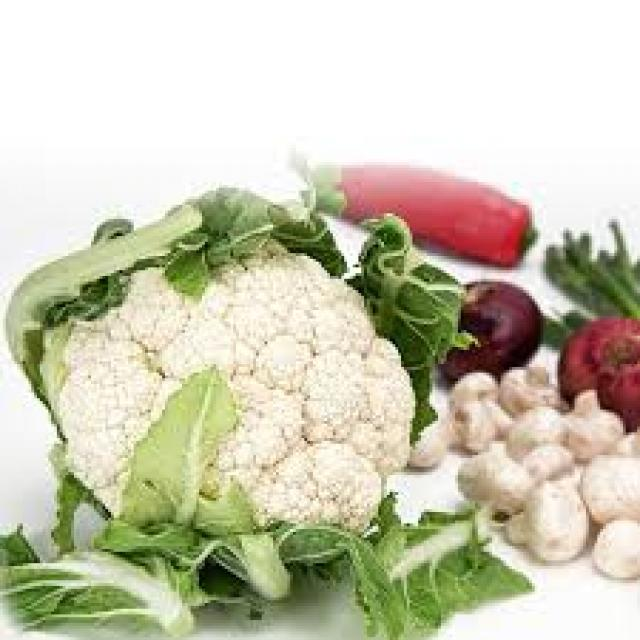organic waste: (0, 148, 523, 637), (299, 159, 526, 262), (535, 225, 637, 344), (435, 273, 538, 373), (555, 310, 637, 430), (501, 475, 586, 563), (575, 449, 637, 524), (458, 441, 518, 506), (560, 387, 618, 452), (586, 509, 637, 572), (510, 404, 560, 461), (495, 370, 552, 415), (450, 398, 500, 447), (526, 438, 578, 484), (446, 367, 501, 410), (407, 418, 449, 461)
